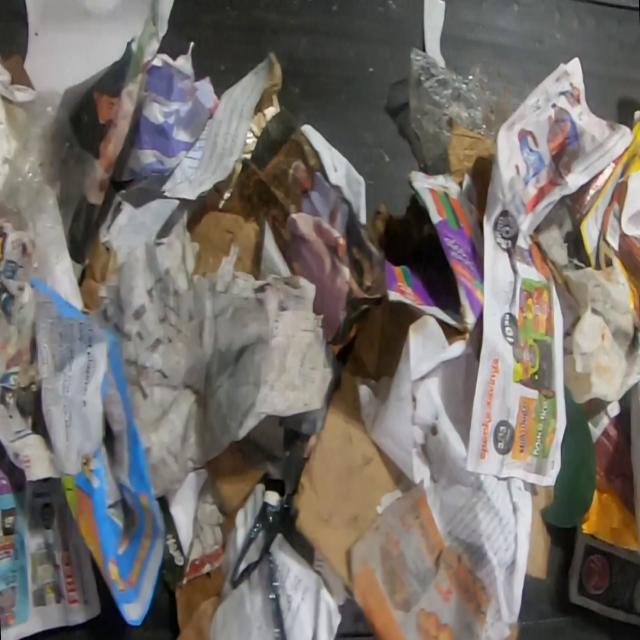cardboard: (28, 271, 172, 630), (291, 298, 424, 593), (175, 439, 265, 640), (561, 119, 640, 333), (381, 169, 484, 331), (184, 166, 270, 282), (447, 124, 496, 217), (524, 483, 553, 579)
rigid_plastic: (228, 493, 306, 640)
soft_plastic: (1, 89, 102, 279), (409, 46, 500, 167)
